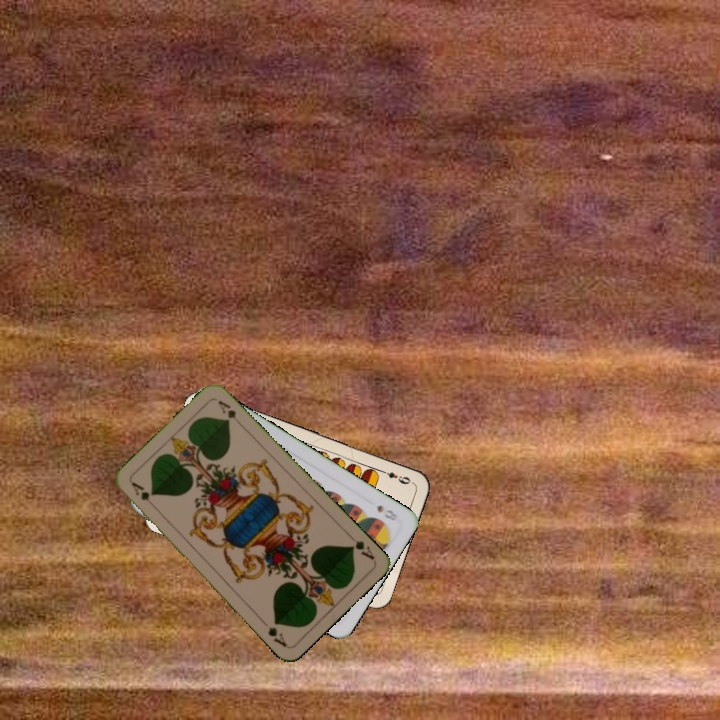E9: (376, 466, 413, 487)
GA: (127, 478, 159, 511), (345, 530, 377, 562)
S8: (373, 501, 400, 523)
